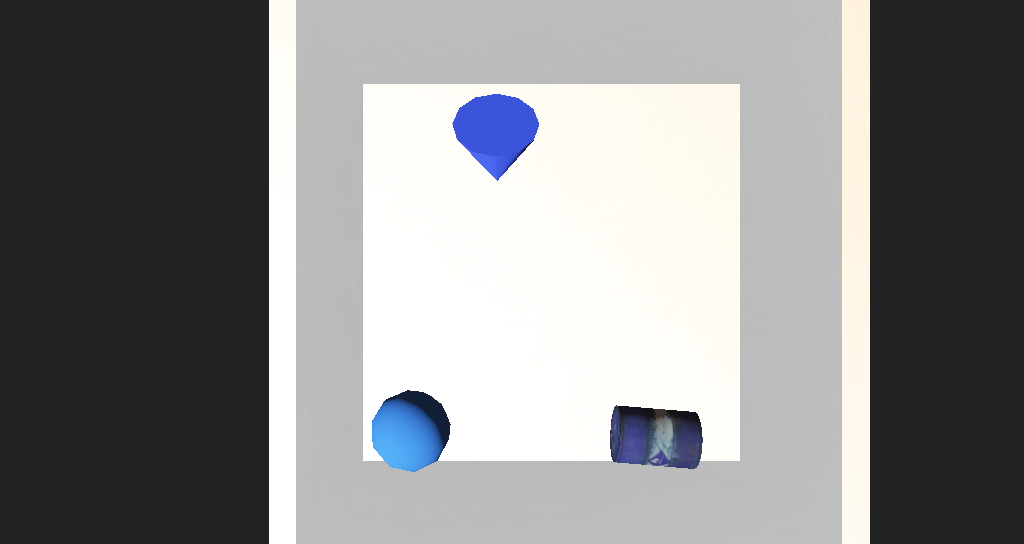cone: (552, 341, 620, 384)
cylinder: (424, 167, 492, 234)
sphere: (357, 336, 424, 379)
